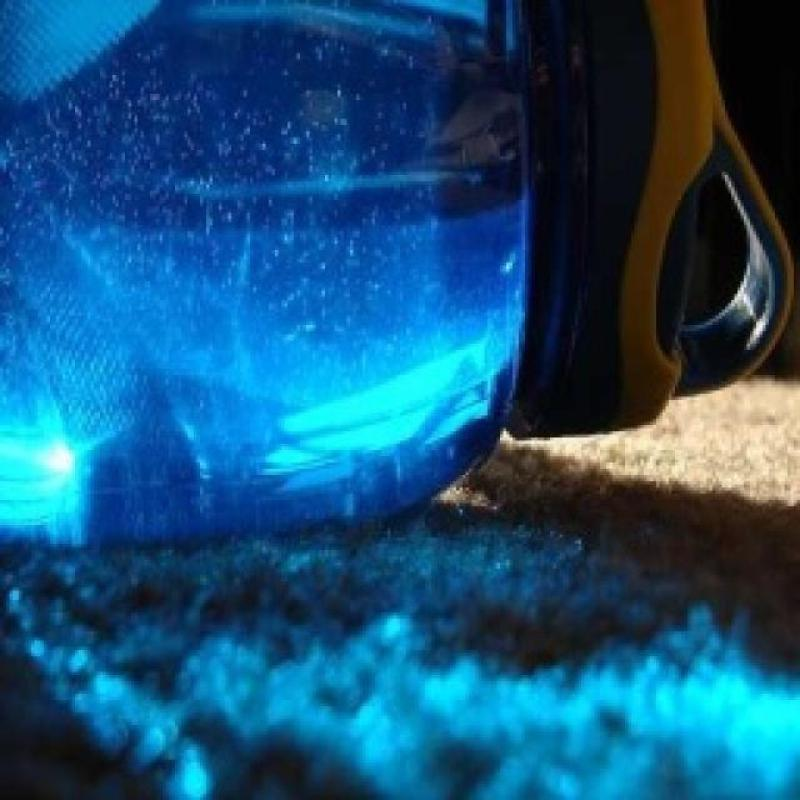botella: (0, 0, 535, 556)
